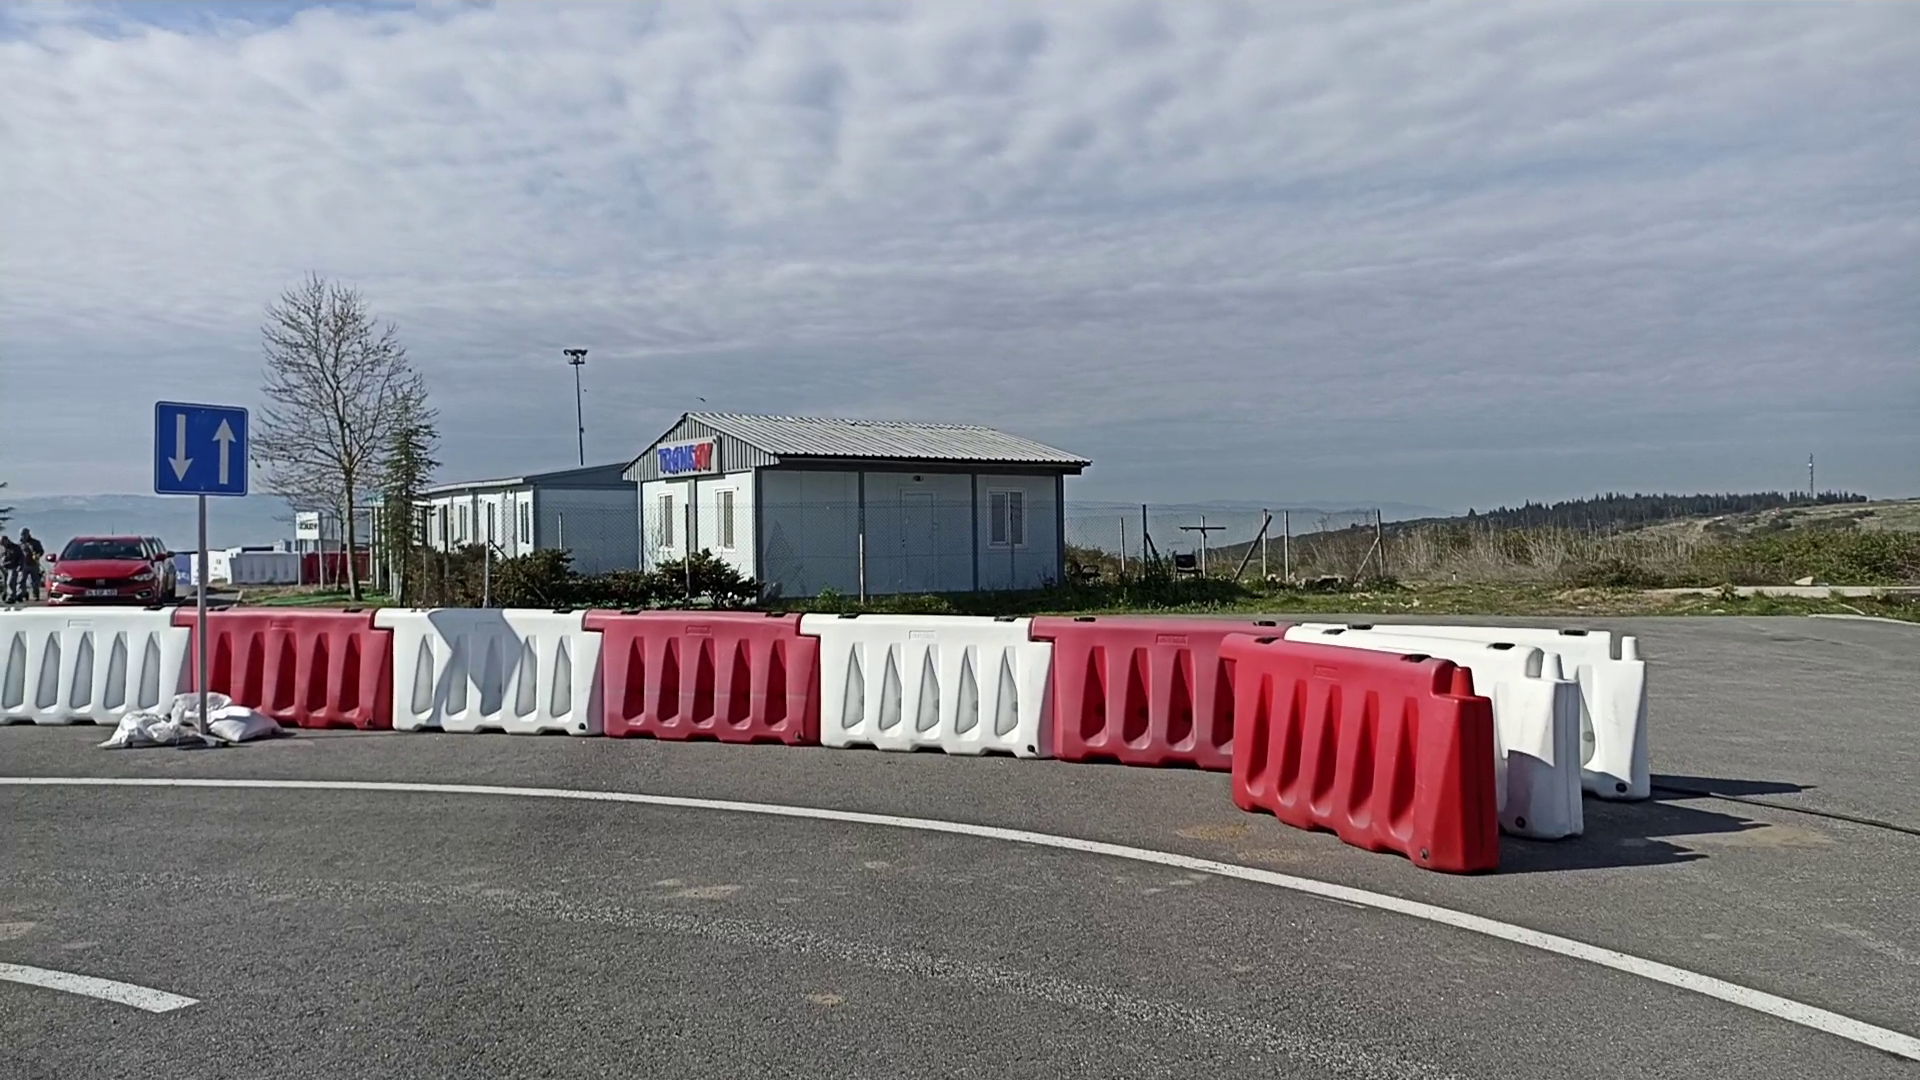oneway: (152, 400, 251, 498)
